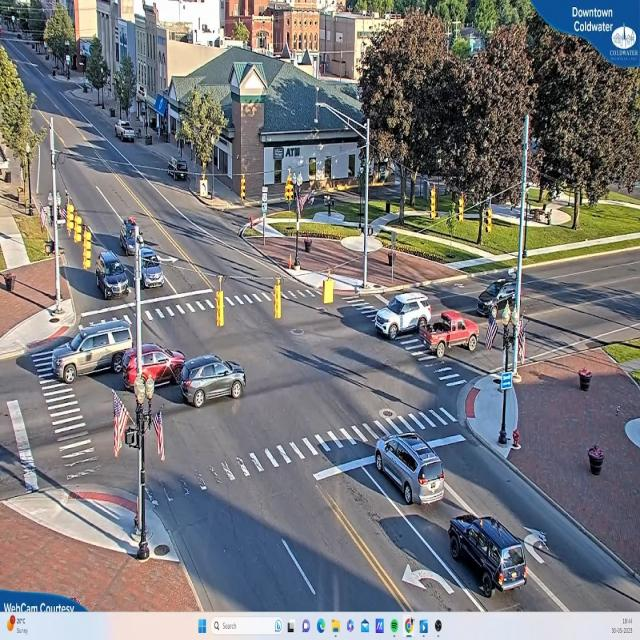car: (449, 515, 533, 595), (374, 433, 444, 506), (53, 320, 132, 384), (181, 355, 247, 408), (374, 291, 440, 341), (119, 345, 185, 389), (418, 311, 479, 356), (95, 255, 129, 302), (476, 279, 518, 314), (142, 244, 166, 288), (117, 122, 137, 144)
